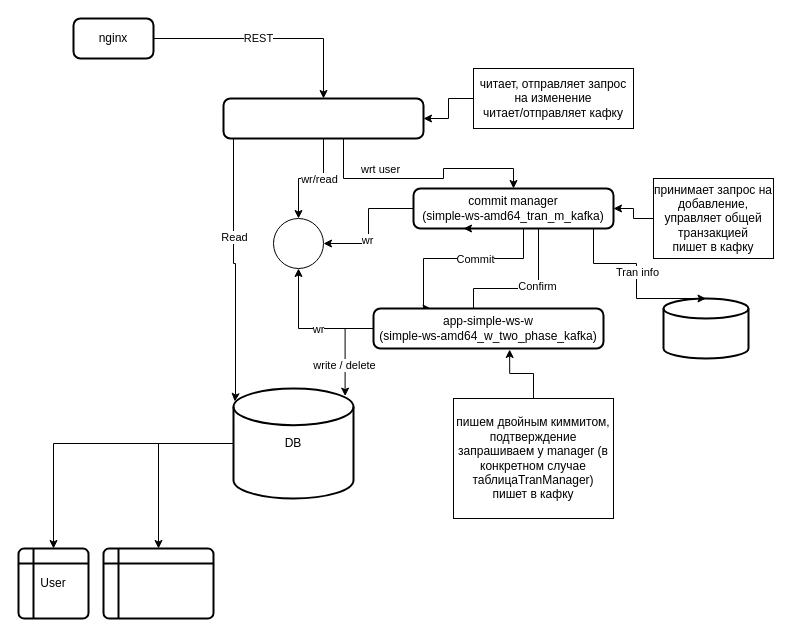
The diagram is 791 pixels wide and 636 high, and some of its shapes have lost their labels. The shapes that lost their labels are listed below. From the top down, each one's box as (x1, y1, x2, y2) in pixels, then its label:
(222, 97, 424, 139): app-simple-ws-r (simple-ws-amd64_r_tran_m_kafka)
(272, 218, 324, 268): KAFKA
(662, 297, 749, 359): TranManager
(102, 547, 214, 619): UserPrepared
